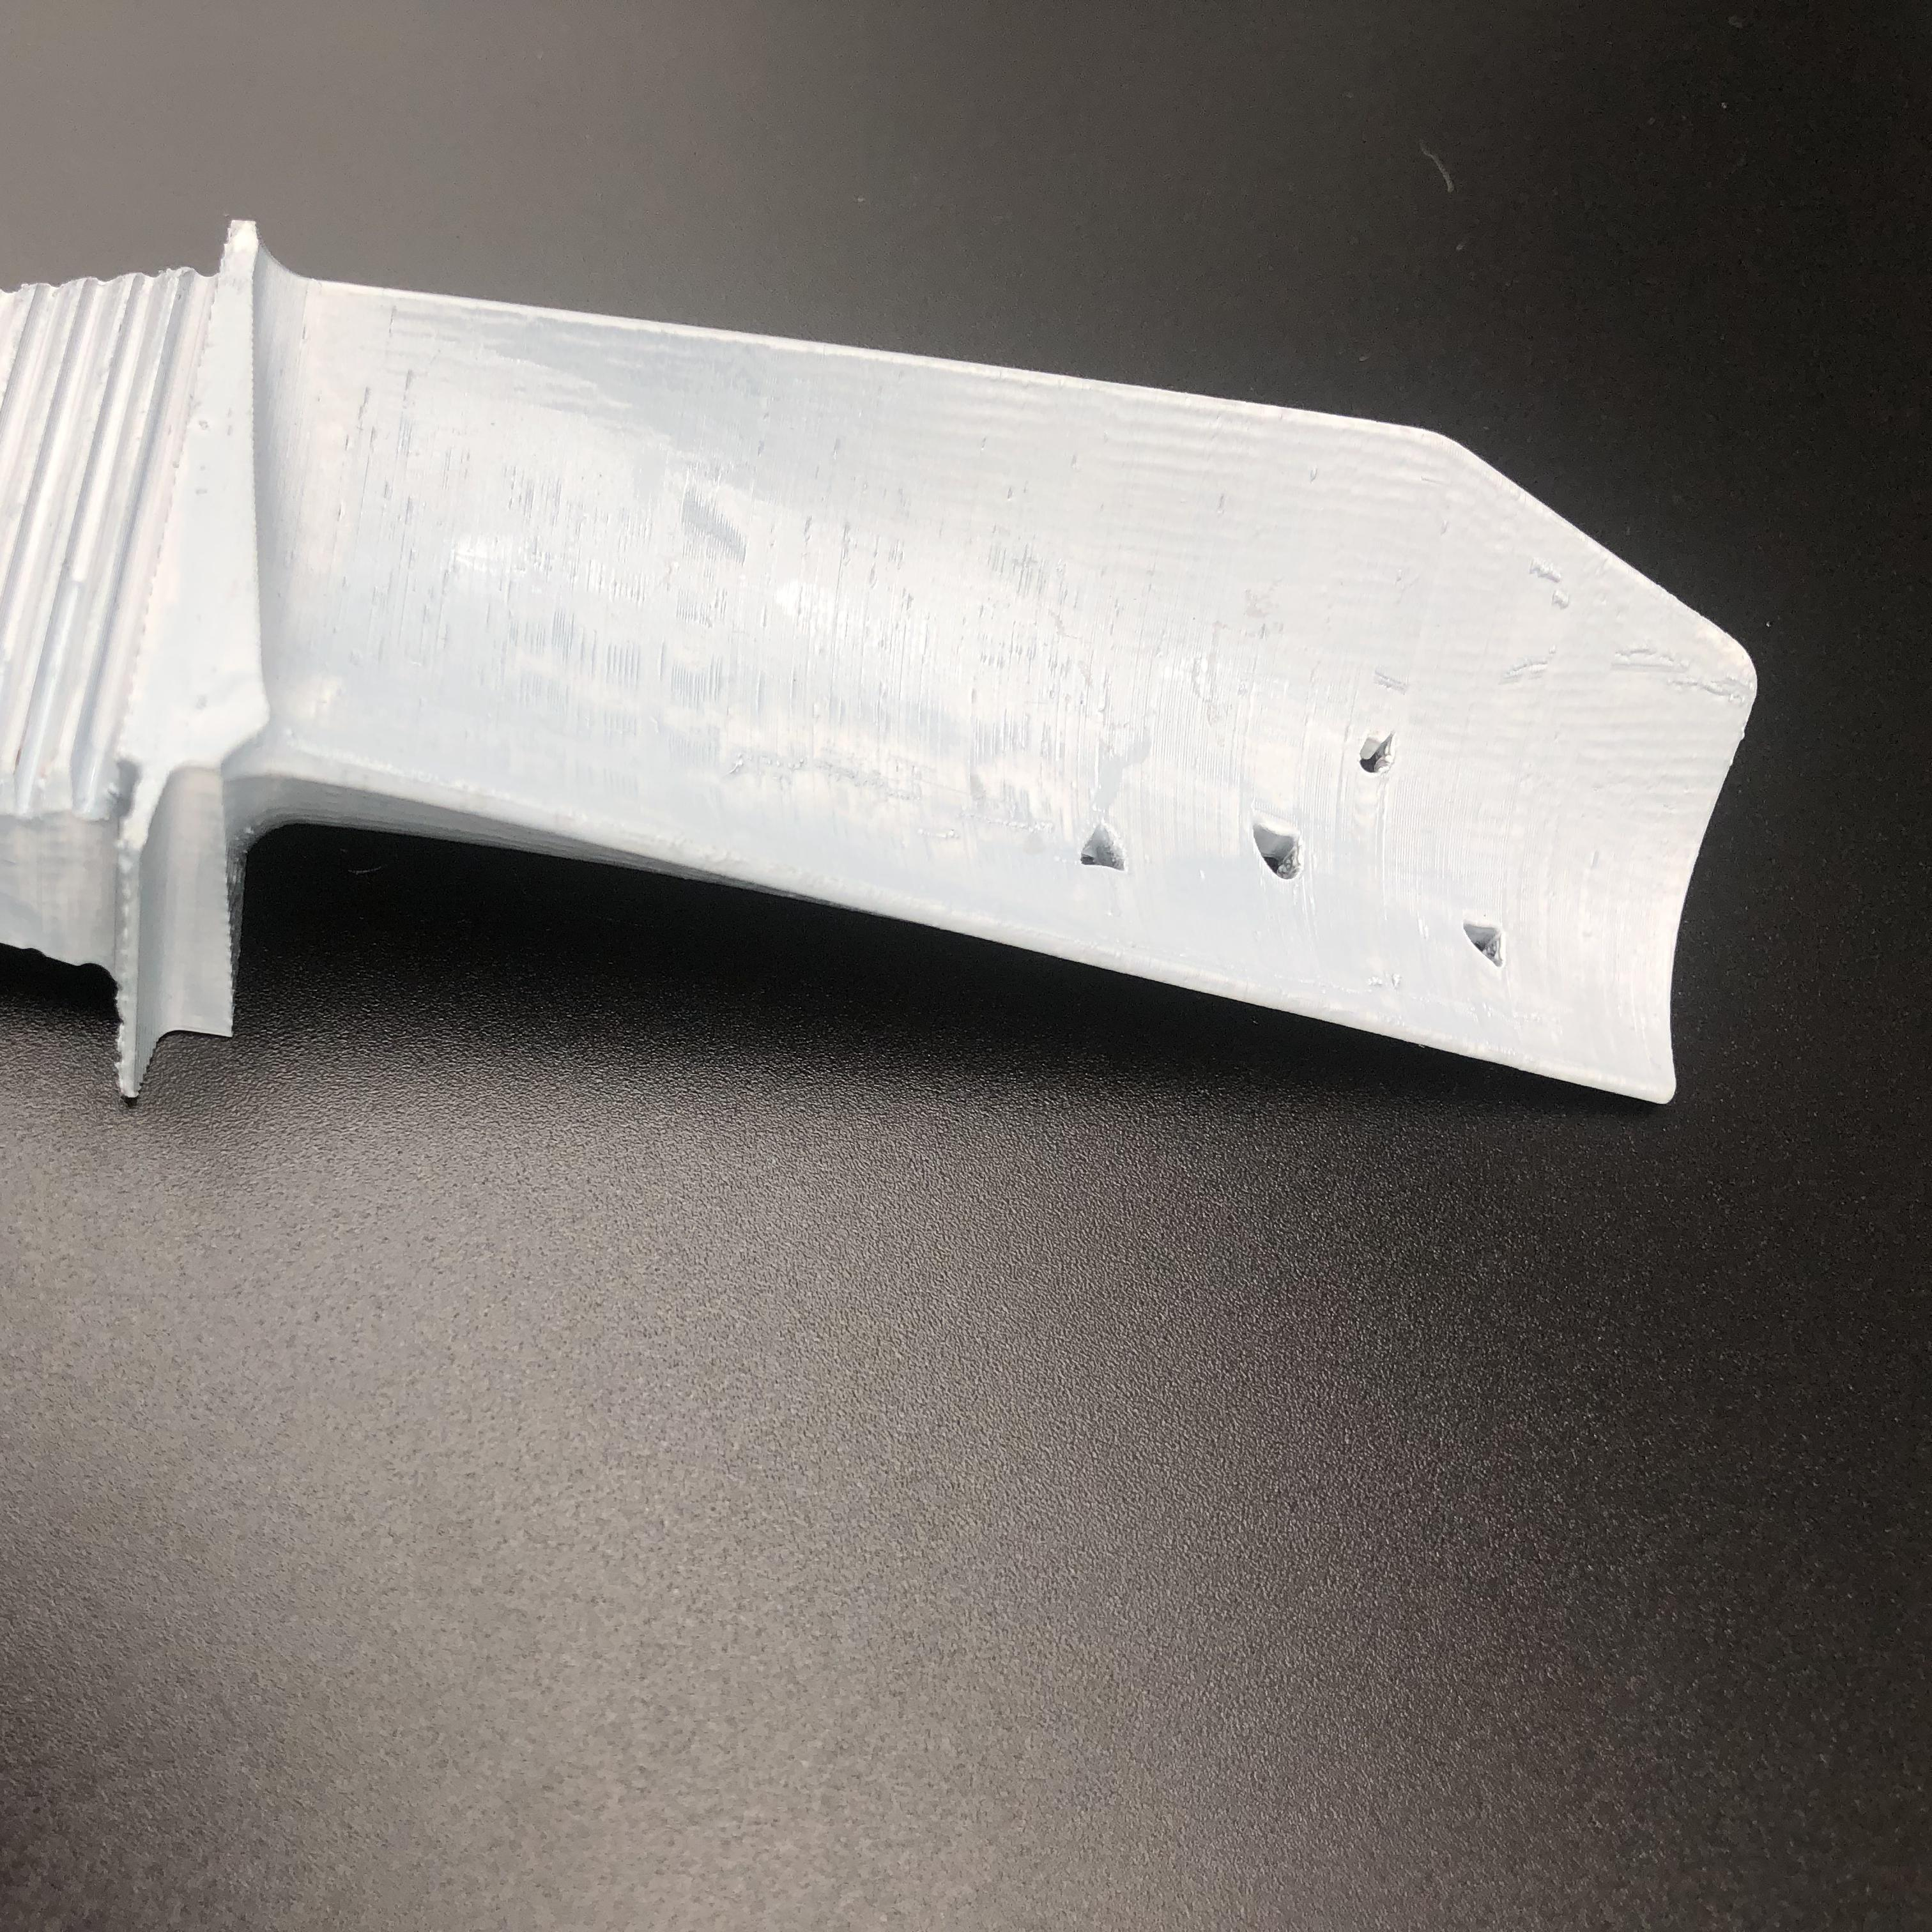breakdown: (1086, 731, 1407, 909), (1463, 908, 1520, 975)
